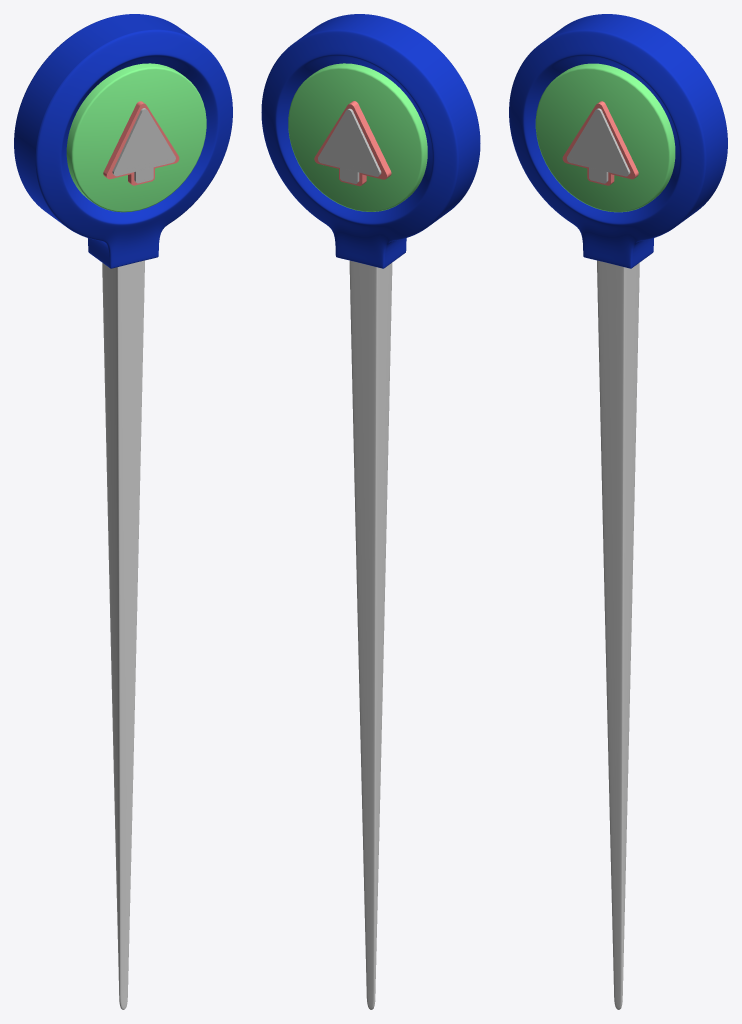
Rendered from BossPin.fbx.
3 renders of one model, left to right at view 1: azimuth 30°, elevation 25°; view 2: azimuth 150°, elevation 25°; view 3: azimuth 330°, elevation 25°, orthographic.
Parts seen in each view (by area): view 1: outer_ring, needle, inner_ring, white_arrow, blue_aw; view 2: outer_ring, needle, inner_ring, white_arrow, blue_aw; view 3: outer_ring, needle, inner_ring, white_arrow, blue_aw.
Boxes of the visible parts, x1,y1,x2,y2 form: outer_ring: (14, 14, 232, 268); needle: (102, 260, 144, 1009); inner_ring: (66, 63, 206, 212); white_arrow: (112, 108, 175, 183); blue_aw: (103, 101, 179, 185); outer_ring: (261, 14, 480, 268); needle: (349, 260, 392, 1009); inner_ring: (288, 63, 427, 211); white_arrow: (318, 108, 381, 183); blue_aw: (314, 101, 391, 186); outer_ring: (509, 14, 727, 268); needle: (597, 260, 639, 1009); inner_ring: (535, 63, 675, 212); white_arrow: (567, 108, 630, 183); blue_aw: (562, 101, 638, 185).
Size of the model in its own units: 0.3193 by 0.1202 by 1.52.
